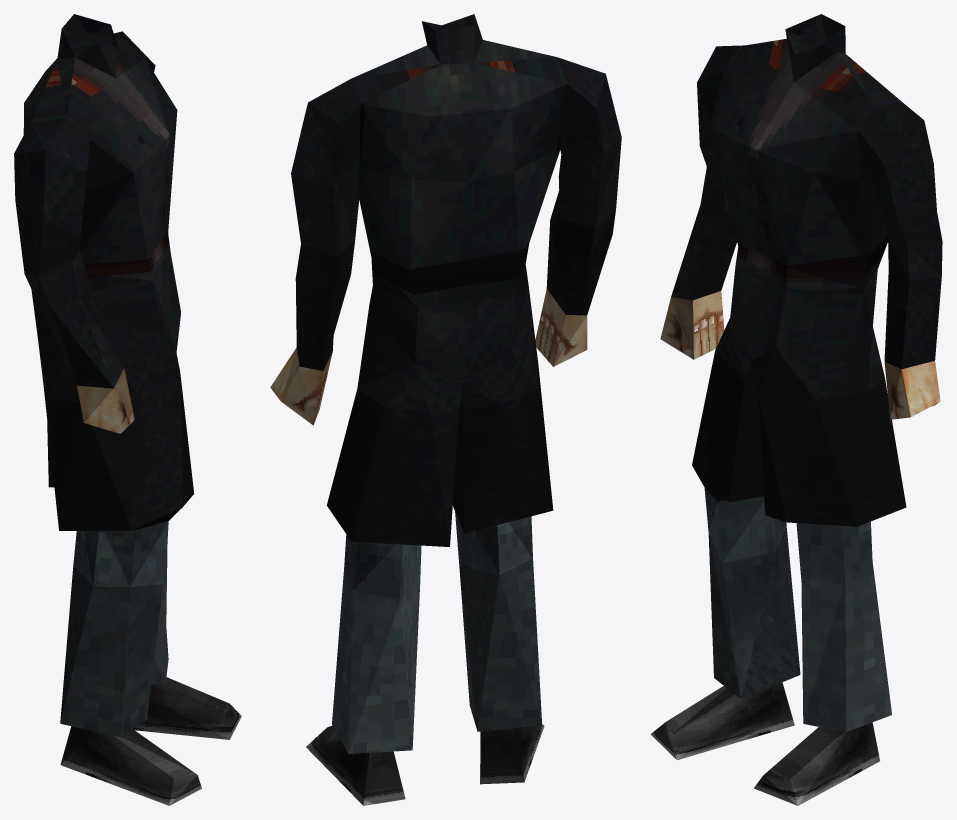
File: primary_014.glb
3 views of the same model, side by side, from view 1: azimuth 30°, elevation 25°; view 2: azimuth 150°, elevation 25°; view 3: azimuth 270°, elevation 25° (orthographic). The views are drawn at different scales.
Parts seen in each view (by area): view 1: Object; view 2: Object; view 3: Object.
Part boxes in pixels (<box>): Object: <box>14,14,241,805</box>; Object: <box>270,14,621,805</box>; Object: <box>650,14,942,805</box>.
Bounding box in the file's own units: 0.6539 × 1.8 × 0.6658.
68 materials, 68 textured.
